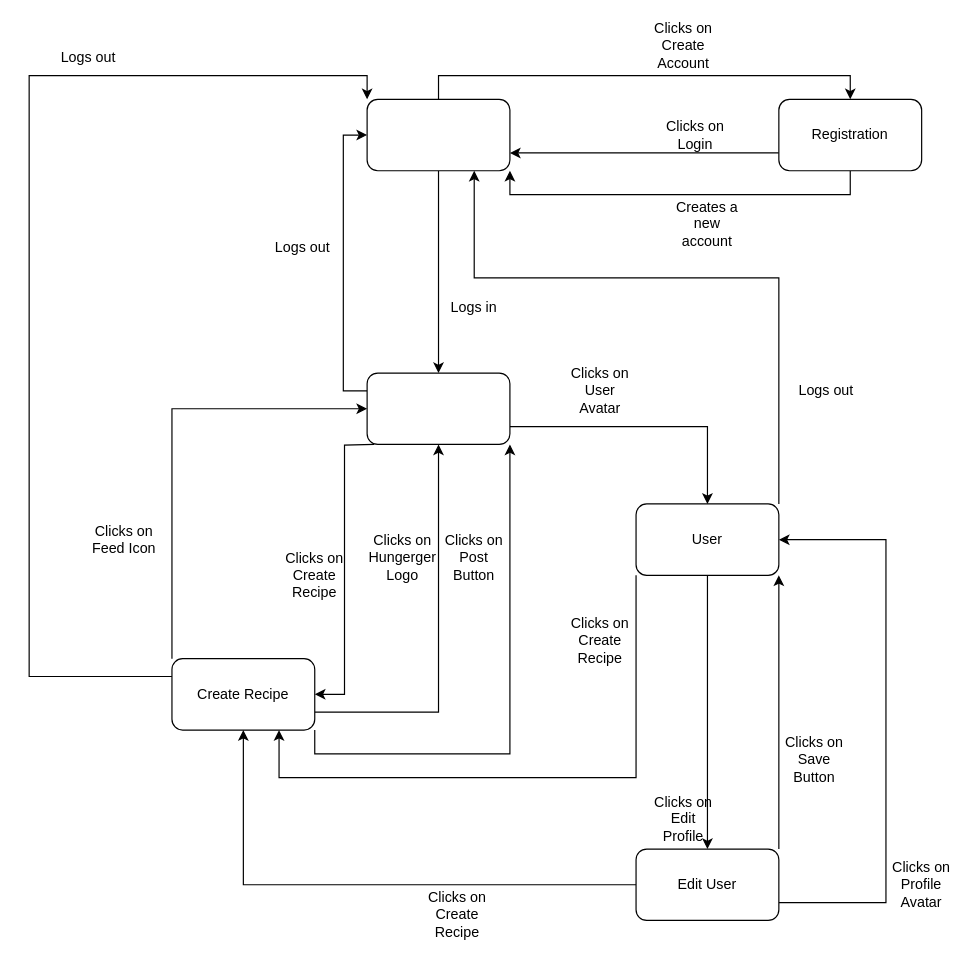
Image size: 978x960. Some labels were removed from this diagram. Here are the shapes that lost their labels. From the top down, the centre of each, then its label:
[438,134]: Login
[438,408]: Feed
